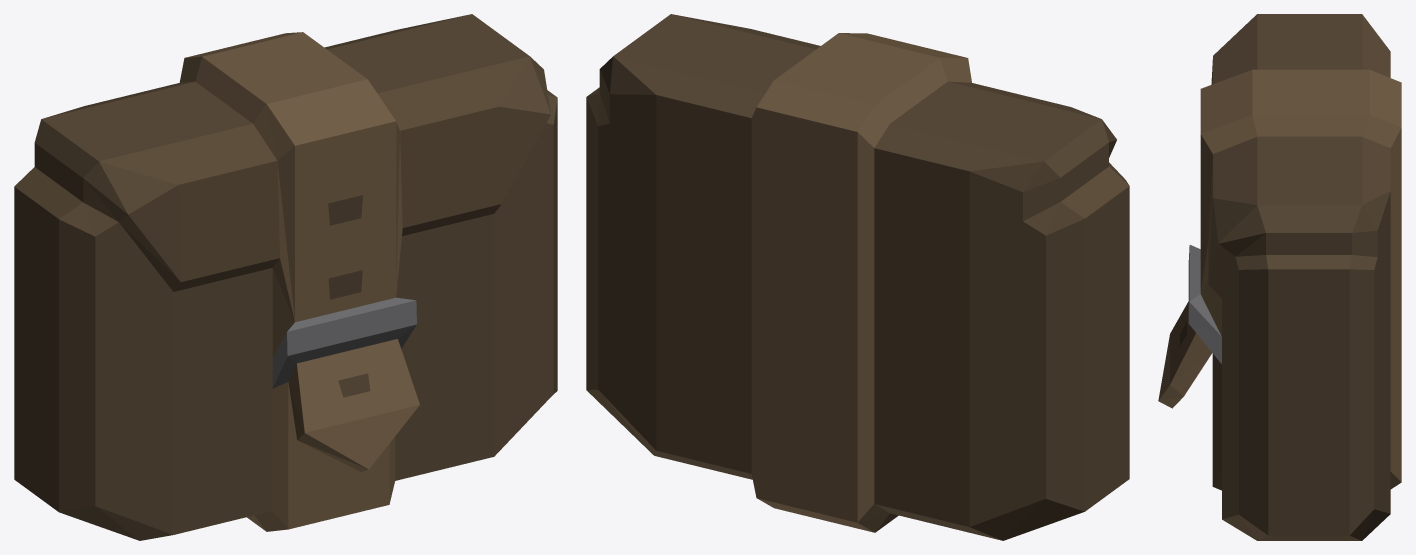
The model's file is pouch.glb.
The picture shows the model from 3 angles, left to right: view 1: azimuth 30°, elevation 25°; view 2: azimuth 150°, elevation 25°; view 3: azimuth 270°, elevation 25°; orthographic projection. The views are drawn at different scales.
Parts seen in each view (by area): view 1: SM_Item_Pouch_01; view 2: SM_Item_Pouch_01; view 3: SM_Item_Pouch_01.
Part boxes in pixels (left/top/right/bottom): SM_Item_Pouch_01: left=14, top=14, right=557, bottom=540; SM_Item_Pouch_01: left=586, top=14, right=1129, bottom=540; SM_Item_Pouch_01: left=1158, top=14, right=1401, bottom=540.
Size of the model in its own units: 18.25 by 14.96 by 8.49.
Materials: 1 (1 with a texture image).
